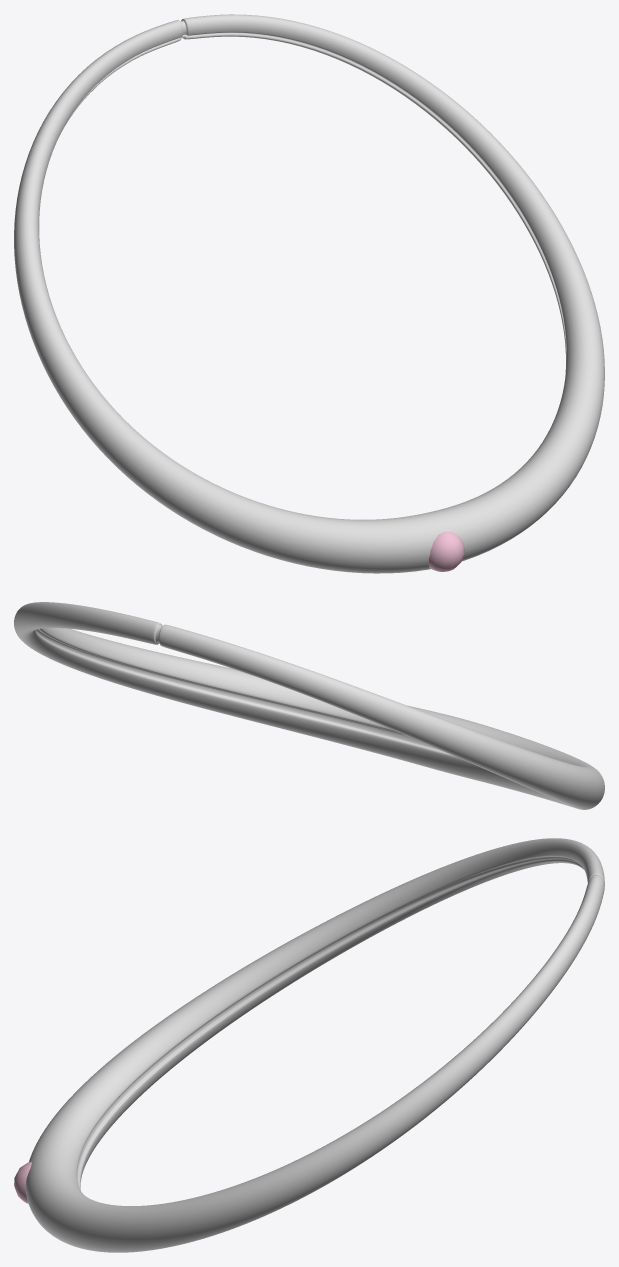
The model's file is device.gltf.
The picture shows the model from 3 angles, top to bottom: view 1: azimuth 30°, elevation 25°; view 2: azimuth 150°, elevation 25°; view 3: azimuth 270°, elevation 25°; orthographic projection.
Visible parts, largest first — view 1: device, Sphere; view 2: device; view 3: device.
Boxes of the visible parts, <box> form: device: <box>14,14,604,573</box>; Sphere: <box>428,531,464,571</box>; device: <box>14,602,604,809</box>; device: <box>25,838,604,1252</box>.
Size of the model in its own units: 52.91 by 33.57 by 52.96.
